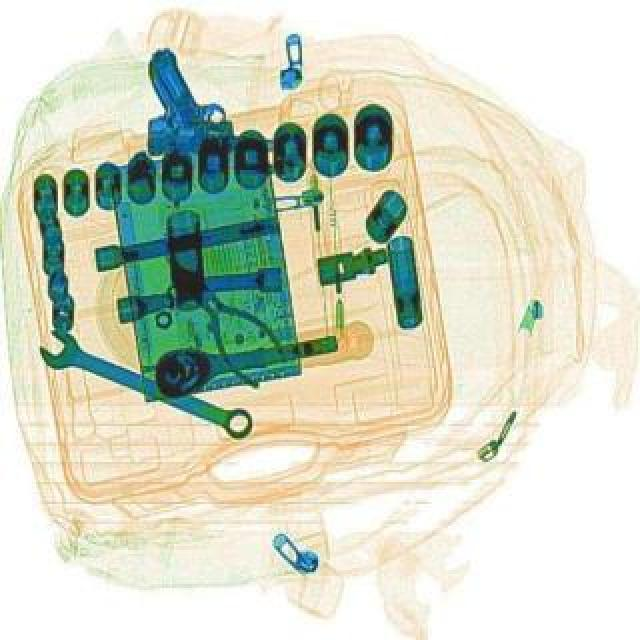gun: (140, 46, 304, 160)
scissors: (32, 322, 260, 444)
wrench: (154, 250, 298, 390)
